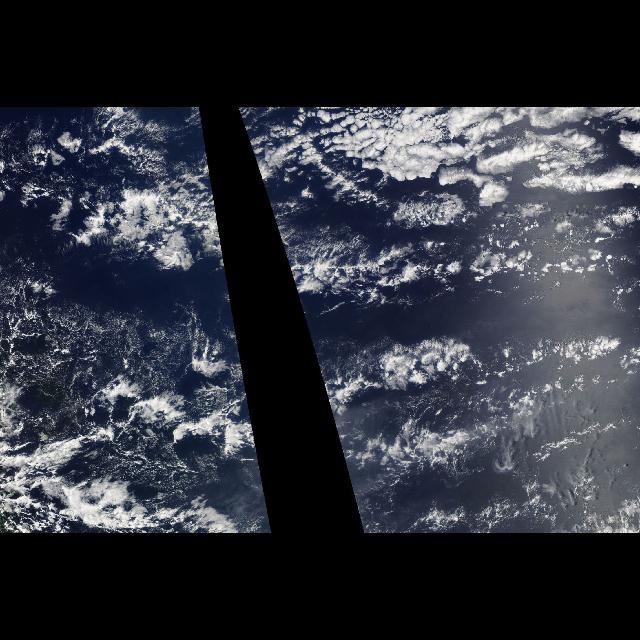Fish: (239, 112, 635, 322), (0, 112, 236, 322)
Sugar: (3, 287, 253, 445)
